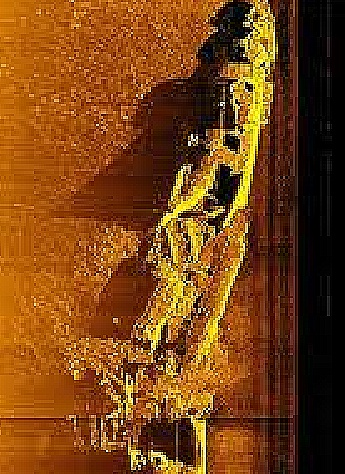ship: (106, 1, 279, 474)
